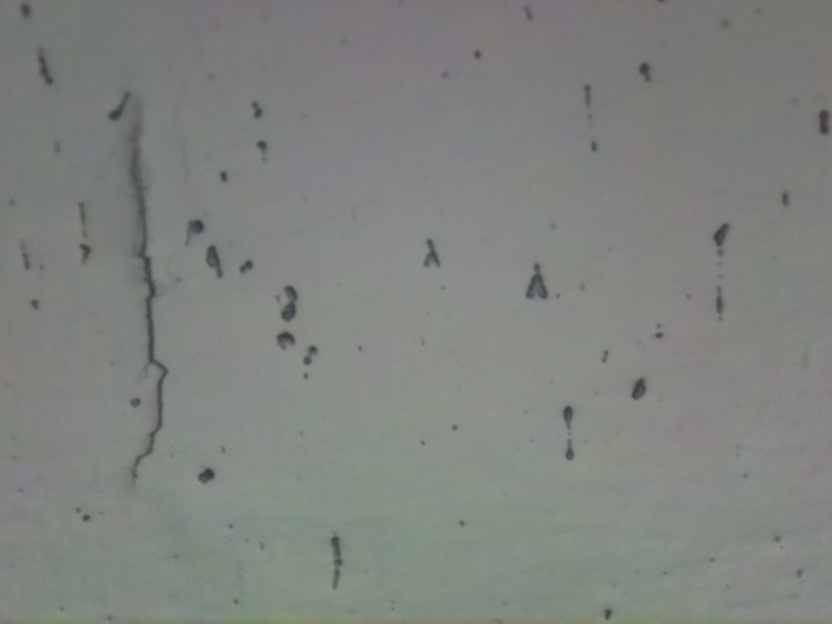crack: (131, 103, 170, 487)
